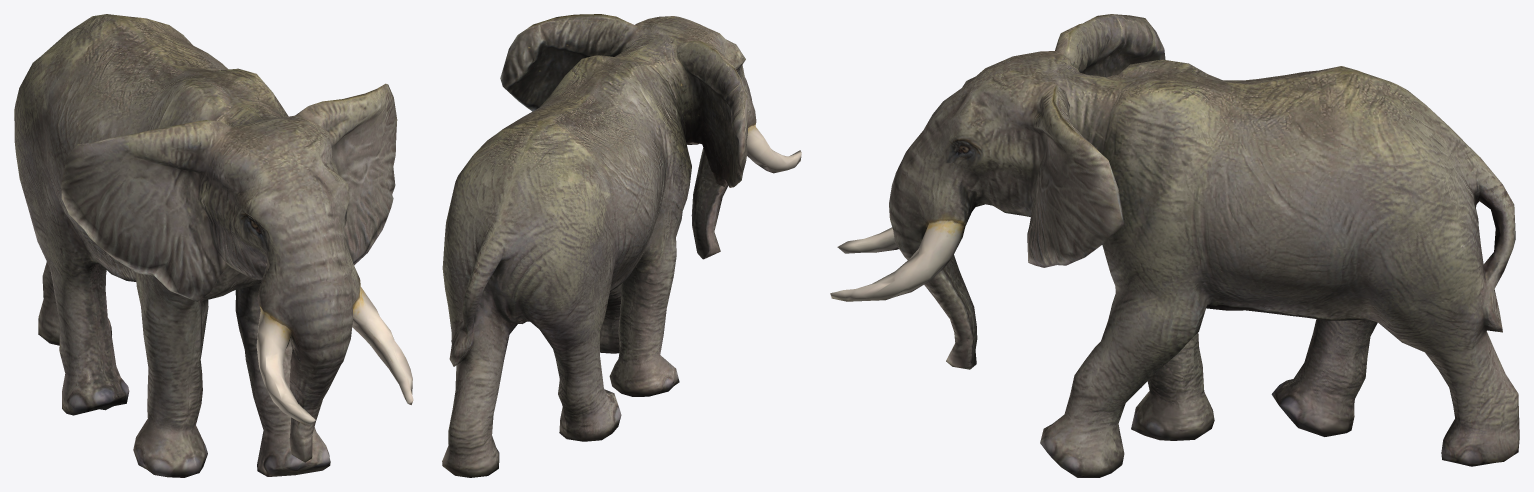
File: elephant.glb
The picture shows the model from 3 angles, left to right: view 1: azimuth 30°, elevation 25°; view 2: azimuth 150°, elevation 25°; view 3: azimuth 270°, elevation 25°; orthographic projection. The views are drawn at different scales.
Parts seen in each view (by area): view 1: Elephant; view 2: Elephant; view 3: Elephant.
Boxes of the visible parts, x1,y1,x2,y2 form: Elephant: [14, 14, 413, 477]; Elephant: [442, 14, 801, 477]; Elephant: [830, 14, 1519, 477].
Bounding box in the file's own units: 2.41 × 2.83 × 4.54.
1 material, 1 textured.
